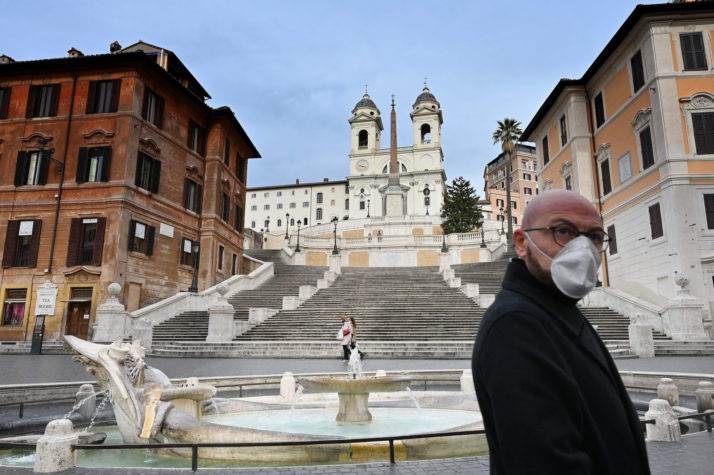mask: (550, 239, 602, 300)
